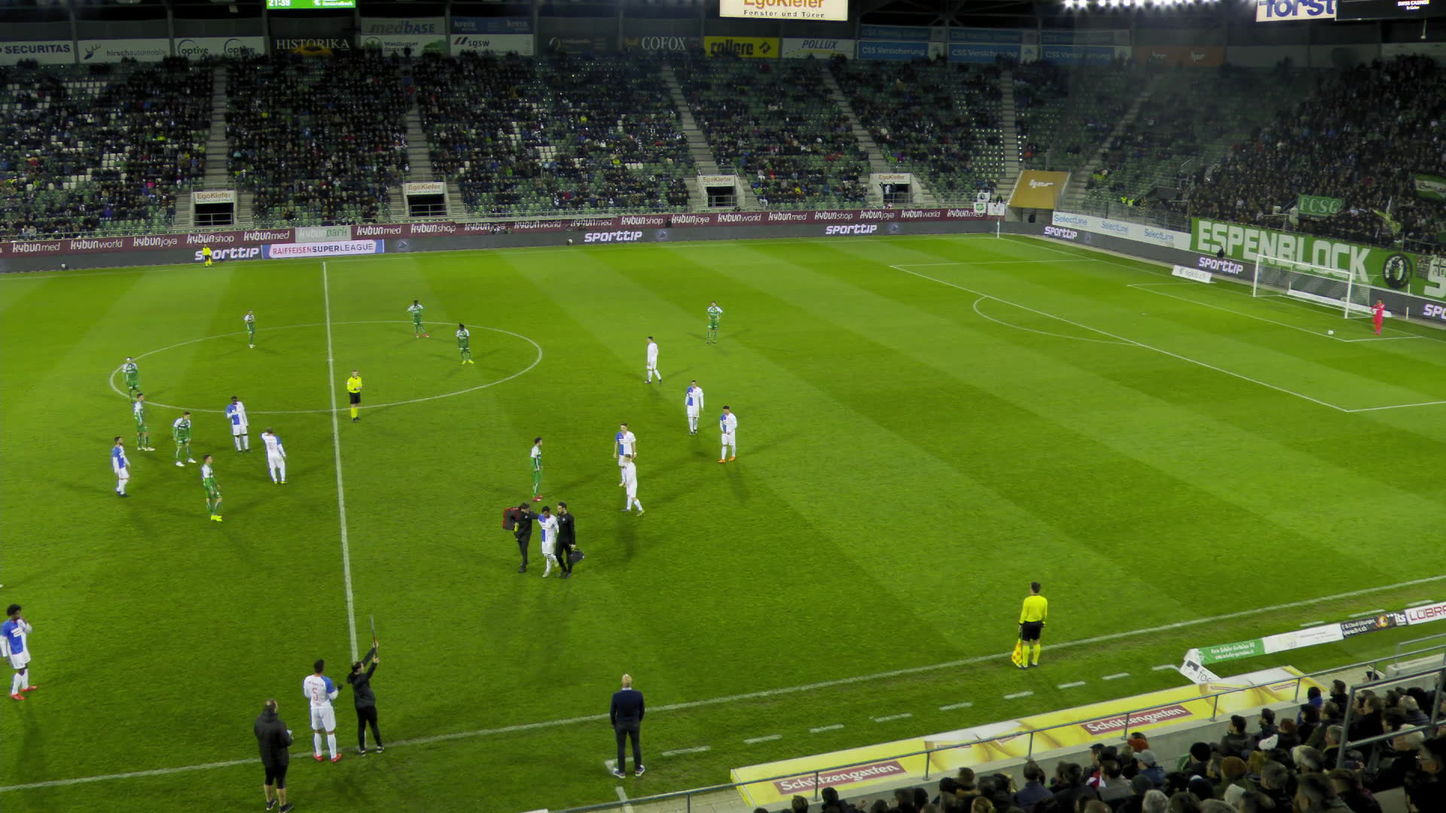ball: (346, 639, 383, 754), (502, 500, 541, 574), (553, 501, 586, 580), (1327, 330, 1332, 334)
player: (302, 660, 341, 763), (1, 604, 35, 701), (105, 437, 139, 500), (612, 452, 644, 516), (612, 421, 639, 488), (200, 455, 227, 522), (673, 379, 703, 437), (224, 394, 253, 454), (536, 506, 559, 575), (260, 428, 287, 484), (527, 437, 549, 501), (717, 400, 737, 466), (132, 391, 153, 452), (170, 412, 193, 466), (122, 358, 141, 405), (455, 322, 476, 364), (407, 298, 429, 338), (642, 334, 659, 383), (703, 301, 722, 343), (243, 309, 256, 349), (1369, 298, 1383, 335)
referee: (1012, 576, 1051, 669), (345, 366, 364, 425), (203, 242, 214, 266)
